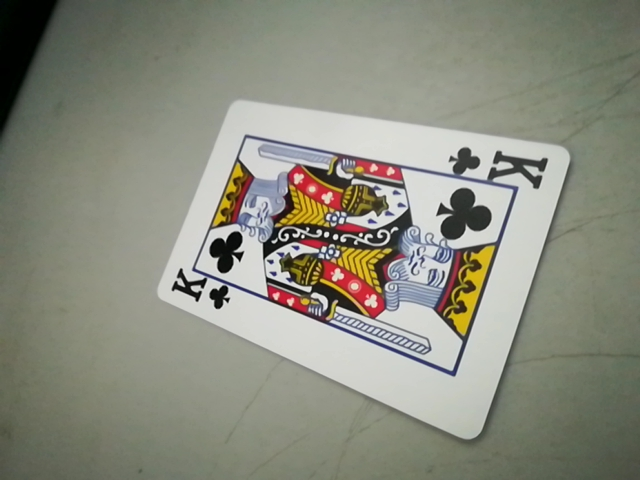mh k: (442, 142, 553, 187), (166, 273, 234, 314)
